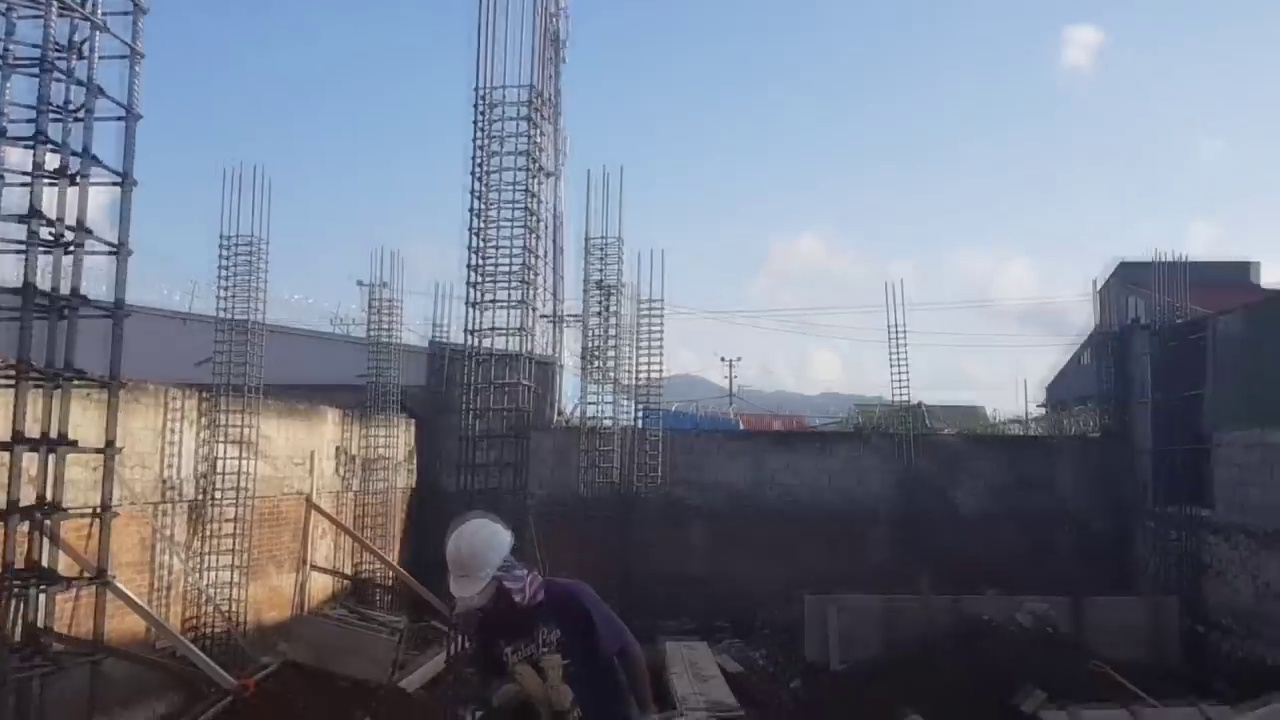helmet: (438, 519, 518, 594)
helmet-on: (439, 515, 538, 626)
person: (440, 513, 651, 716)
